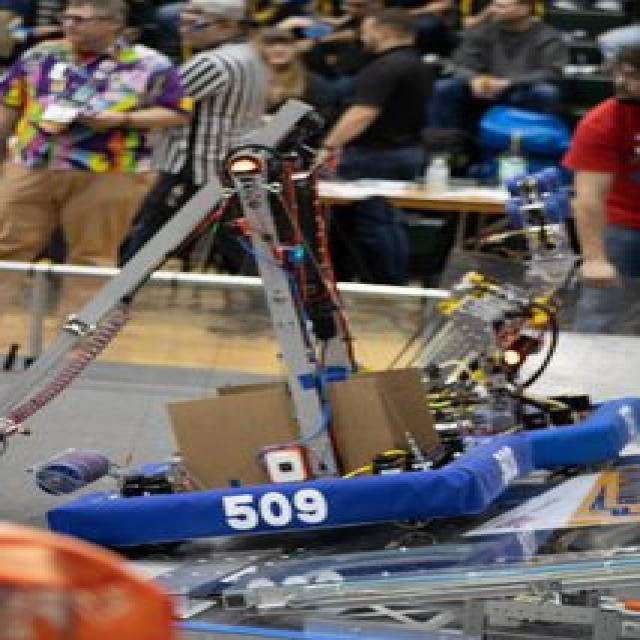robot: (0, 162, 544, 544), (349, 272, 640, 474)
